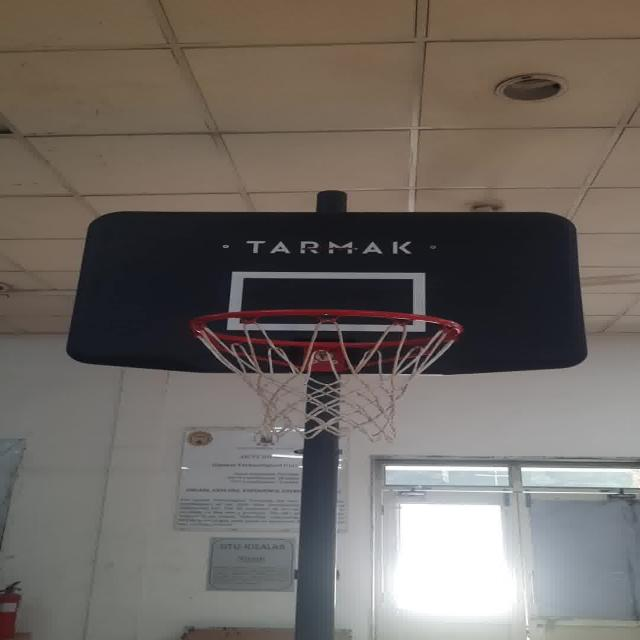objects: (166, 300, 487, 442), (234, 268, 421, 333)
